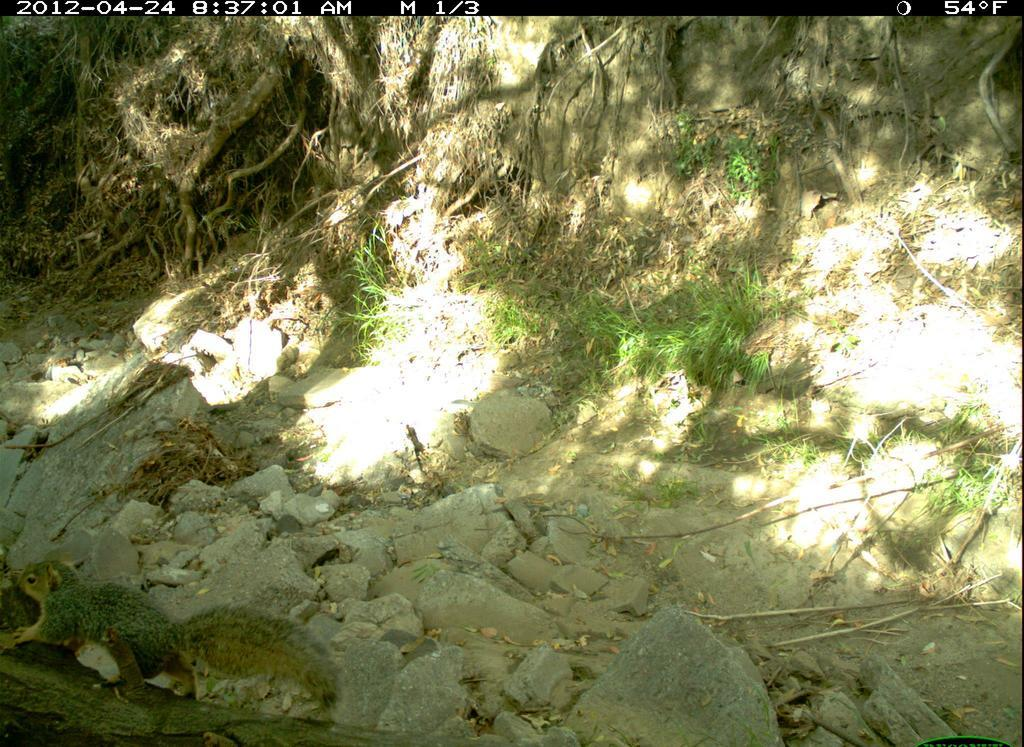squirrel: (1, 539, 368, 738)
